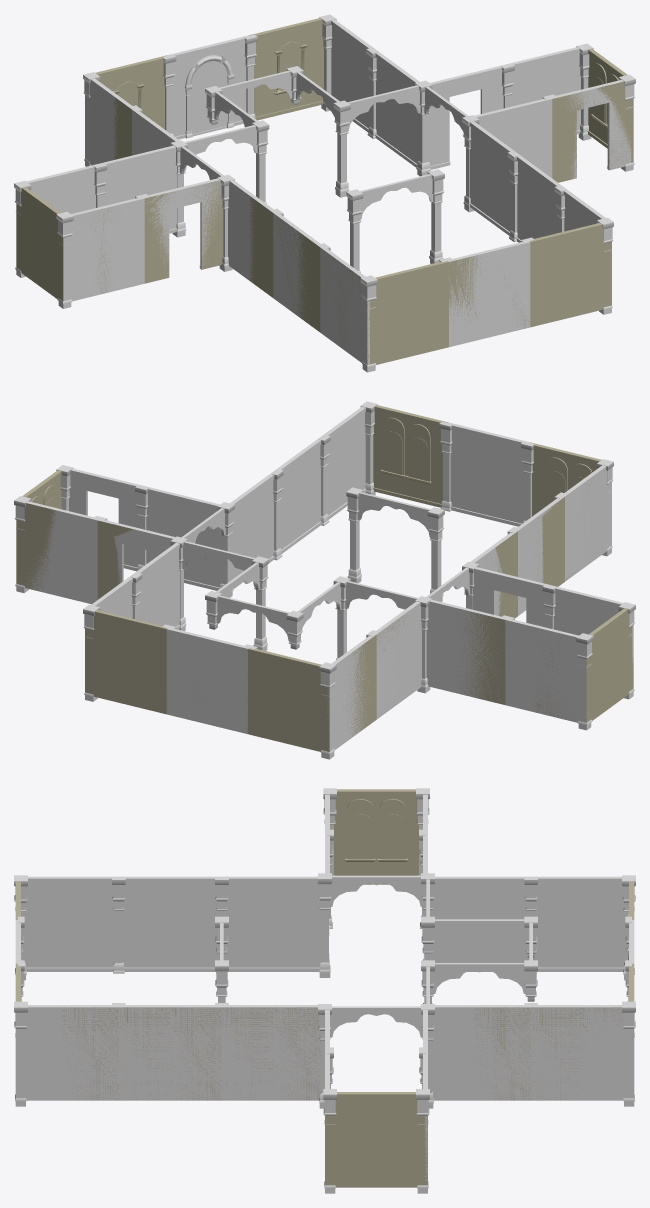
The model's file is Homeworld_Interior_Md_Room_C_Wall_01_Vo.fbx.
The picture shows the model from 3 angles, top to bottom: view 1: azimuth 30°, elevation 25°; view 2: azimuth 150°, elevation 25°; view 3: azimuth 270°, elevation 25°; orthographic projection. The views are drawn at different scales.
Visible parts, largest first — view 1: Homeworld_Interior_Md_Room_Wall_01_Vo (×16), Homeworld_Interior_Md_Room_C_Filling_01_Vo, Homeworld_Interior_Md_Room_Wall_06_Vo (×3), Homeworld_Interior_Md_Room_Wall_03_Vo (×2), Homeworld_Interior_Md_Room_Wall_04_Vo (×8), Homeworld_Interior_Md_Room_Pillar_01_Vo (×7), Homeworld_Interior_Md_Room_Wall_07_Vo, Homeworld_Interior_Md_Room_Pillar_02_Vo (×4), Homeworld_Interior_Md_Room_Wall_02_Vo, Homeworld_Interior_Md_Room_Pillar_01_Vo (4), Homeworld_Interior_Md_Room_Pillar_01_Vo (2), Homeworld_Interior_Md_Room_Pillar_01_Vo (3) (+1 smaller); view 2: Homeworld_Interior_Md_Room_Wall_01_Vo (×16), Homeworld_Interior_Md_Room_C_Filling_01_Vo, Homeworld_Interior_Md_Room_Wall_02_Vo (×3), Homeworld_Interior_Md_Room_Wall_07_Vo, Homeworld_Interior_Md_Room_Wall_06_Vo (×3), Homeworld_Interior_Md_Room_Wall_04_Vo (×8), Homeworld_Interior_Md_Room_Pillar_01_Vo (×7), Homeworld_Interior_Md_Room_Wall_03_Vo (×2), Homeworld_Interior_Md_Room_Pillar_02_Vo (×5), Homeworld_Interior_Md_Room_Pillar_01_Vo (3), Homeworld_Interior_Md_Room_Pillar_01_Vo (1), Homeworld_Interior_Md_Room_Pillar_03_Vo; view 3: Homeworld_Interior_Md_Room_Wall_01_Vo (×10), Homeworld_Interior_Md_Room_C_Filling_01_Vo, Homeworld_Interior_Md_Room_Wall_02_Vo, Homeworld_Interior_Md_Room_Wall_04_Vo (×4), Homeworld_Interior_Md_Room_Pillar_01_Vo (2), Homeworld_Interior_Md_Room_Pillar_02_Vo, Homeworld_Interior_Md_Room_Pillar_01_Vo (3), Homeworld_Interior_Md_Room_Pillar_01_Vo (4).
Boxes of the visible parts, bbox=[...] form: Homeworld_Interior_Md_Room_Wall_01_Vo (×16): bbox=[26, 19, 605, 364]; Homeworld_Interior_Md_Room_C_Filling_01_Vo: bbox=[16, 81, 633, 364]; Homeworld_Interior_Md_Room_Wall_06_Vo (×3): bbox=[144, 64, 631, 273]; Homeworld_Interior_Md_Room_Wall_03_Vo (×2): bbox=[95, 18, 323, 129]; Homeworld_Interior_Md_Room_Wall_04_Vo (×8): bbox=[180, 70, 467, 219]; Homeworld_Interior_Md_Room_Pillar_01_Vo (×7): bbox=[252, 14, 593, 372]; Homeworld_Interior_Md_Room_Wall_07_Vo: bbox=[167, 35, 248, 139]; Homeworld_Interior_Md_Room_Pillar_02_Vo (×4): bbox=[162, 34, 518, 242]; Homeworld_Interior_Md_Room_Wall_02_Vo: bbox=[587, 49, 633, 162]; Homeworld_Interior_Md_Room_Pillar_01_Vo (4): bbox=[415, 80, 432, 176]; Homeworld_Interior_Md_Room_Pillar_01_Vo (2): bbox=[217, 174, 234, 271]; Homeworld_Interior_Md_Room_Pillar_01_Vo (3): bbox=[462, 115, 479, 212]; Homeworld_Interior_Md_Room_Wall_01_Vo (×16): bbox=[19, 406, 633, 751]; Homeworld_Interior_Md_Room_C_Filling_01_Vo: bbox=[16, 480, 633, 751]; Homeworld_Interior_Md_Room_Wall_02_Vo (×3): bbox=[22, 405, 601, 516]; Homeworld_Interior_Md_Room_Wall_07_Vo: bbox=[166, 628, 248, 733]; Homeworld_Interior_Md_Room_Wall_06_Vo (×3): bbox=[69, 468, 551, 627]; Homeworld_Interior_Md_Room_Wall_04_Vo (×8): bbox=[181, 492, 469, 640]; Homeworld_Interior_Md_Room_Pillar_01_Vo (×7): bbox=[252, 401, 593, 759]; Homeworld_Interior_Md_Room_Wall_03_Vo (×2): bbox=[95, 610, 329, 751]; Homeworld_Interior_Md_Room_Pillar_02_Vo (×5): bbox=[135, 421, 534, 570]; Homeworld_Interior_Md_Room_Pillar_01_Vo (3): bbox=[217, 502, 234, 597]; Homeworld_Interior_Md_Room_Pillar_01_Vo (1): bbox=[415, 596, 432, 693]; Homeworld_Interior_Md_Room_Pillar_03_Vo: bbox=[286, 610, 303, 649]; Homeworld_Interior_Md_Room_Wall_01_Vo (×10): bbox=[15, 876, 634, 1100]; Homeworld_Interior_Md_Room_C_Filling_01_Vo: bbox=[62, 1007, 622, 1187]; Homeworld_Interior_Md_Room_Wall_02_Vo: bbox=[334, 789, 418, 884]; Homeworld_Interior_Md_Room_Wall_04_Vo (×4): bbox=[329, 875, 526, 1037]; Homeworld_Interior_Md_Room_Pillar_01_Vo (2): bbox=[318, 873, 331, 977]; Homeworld_Interior_Md_Room_Pillar_02_Vo: bbox=[112, 877, 125, 973]; Homeworld_Interior_Md_Room_Pillar_01_Vo (3): bbox=[318, 1004, 331, 1108]; Homeworld_Interior_Md_Room_Pillar_01_Vo (4): bbox=[421, 1004, 434, 1108].
Size of what is drawn, in the model's own units: 35.17 by 5.34 by 30.17.
